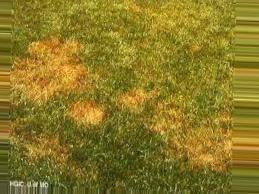patch: (26, 56, 79, 100), (174, 120, 223, 155), (74, 103, 106, 129), (43, 39, 73, 58), (149, 8, 175, 25)
